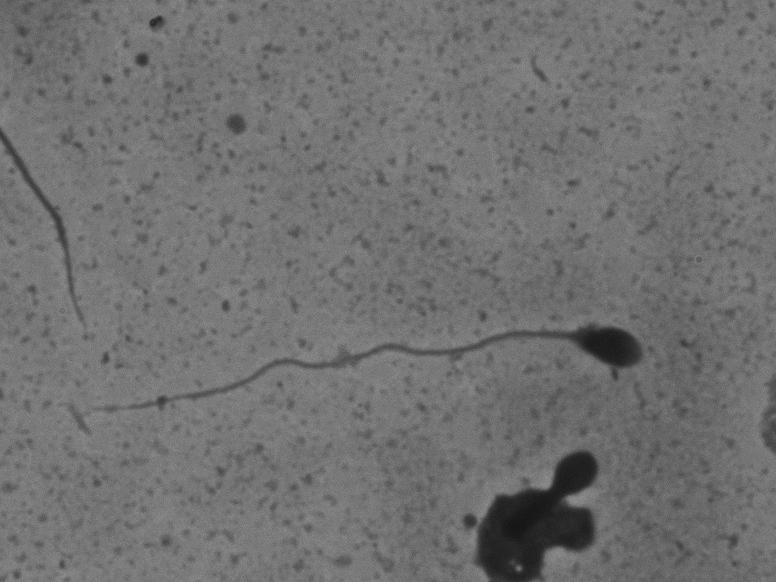Normal: (94, 258, 664, 447)
